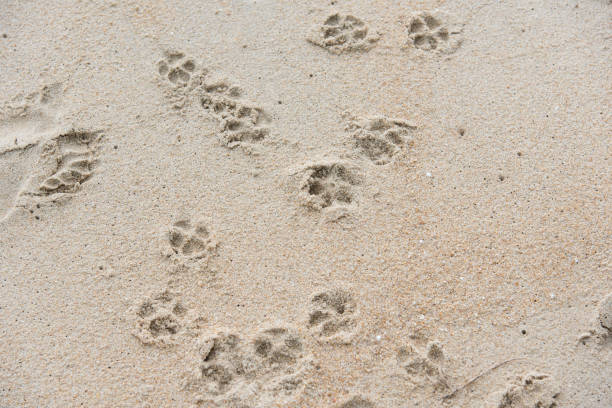animal_foot_print: (186, 327, 309, 405), (0, 84, 62, 219), (20, 129, 101, 200), (200, 78, 268, 147), (38, 130, 99, 194), (346, 116, 415, 164), (130, 290, 187, 346), (300, 162, 360, 210), (307, 13, 379, 53), (156, 51, 205, 109), (307, 288, 358, 343), (396, 341, 449, 392), (162, 217, 216, 264), (407, 10, 461, 53), (494, 372, 559, 407), (578, 293, 611, 345), (157, 51, 195, 85), (336, 395, 374, 407)
